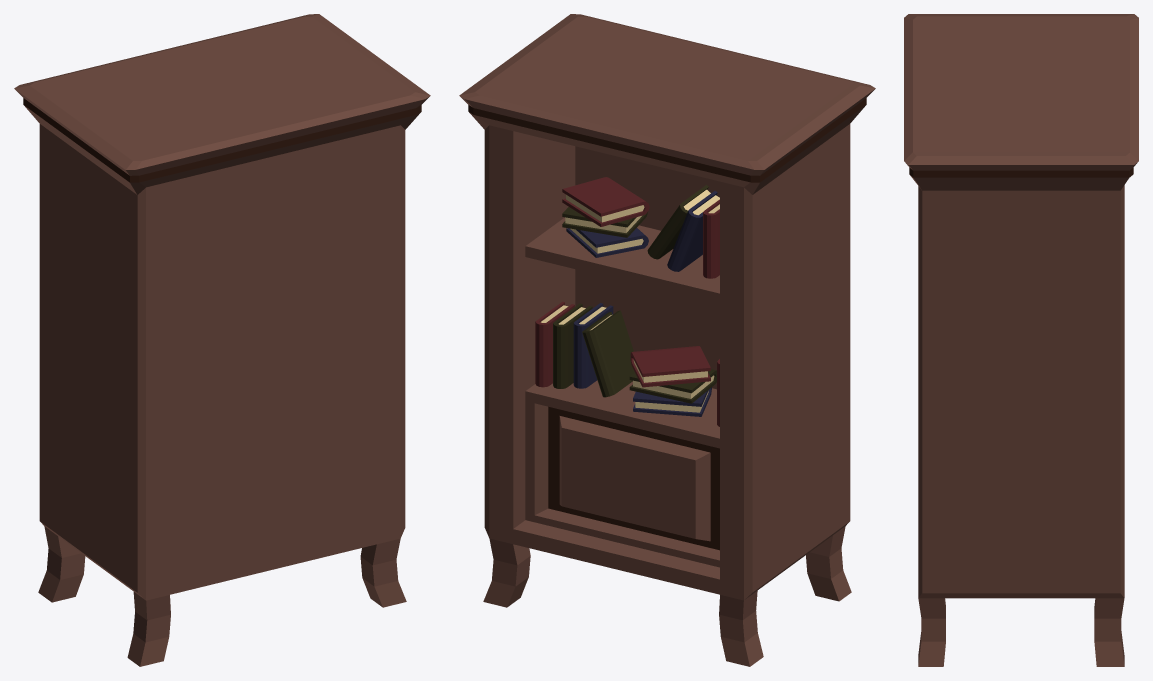
The model's file is bookshelf.fbx.
3 renders of one model, left to right at view 1: azimuth 30°, elevation 25°; view 2: azimuth 150°, elevation 25°; view 3: azimuth 270°, elevation 25°, orthographic.
Visible parts, largest first — view 1: Bookshelf; view 2: Bookshelf; view 3: Bookshelf.
Boxes of the visible parts, bbox=[...] form: Bookshelf: bbox=[14, 14, 430, 666]; Bookshelf: bbox=[459, 14, 875, 666]; Bookshelf: bbox=[904, 14, 1138, 666].
Size of the model in its own units: 167 by 266 by 110.
